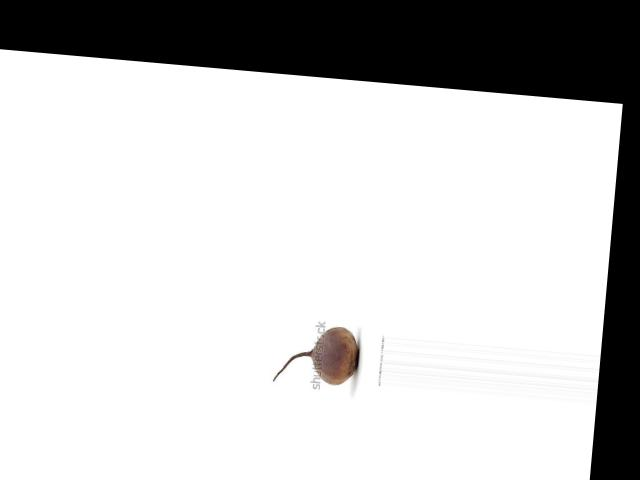beet: (272, 320, 361, 388)
